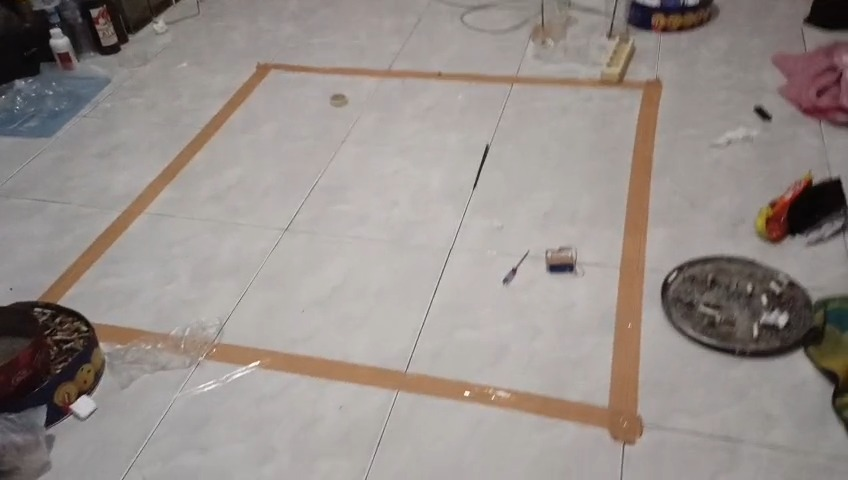floor marking: (40, 64, 661, 443), (94, 324, 169, 343)
